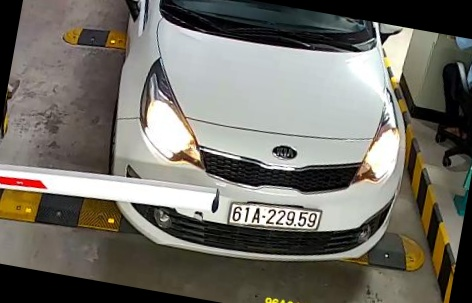plate: (214, 195, 322, 236)
